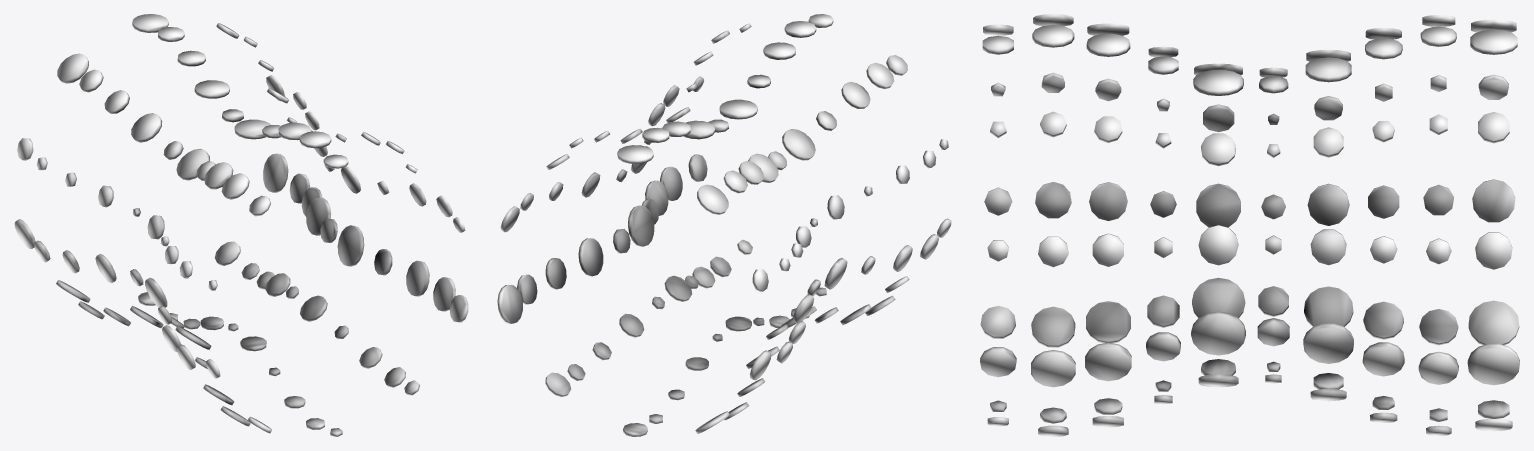
The model's file is spinner.obj.
The picture shows the model from 3 angles, left to right: view 1: azimuth 30°, elevation 25°; view 2: azimuth 150°, elevation 25°; view 3: azimuth 270°, elevation 25°; orthographic projection. The views are drawn at different scales.
Size of the model in its own units: 0.7705 by 0.7852 by 1.
1 material, 1 textured.
